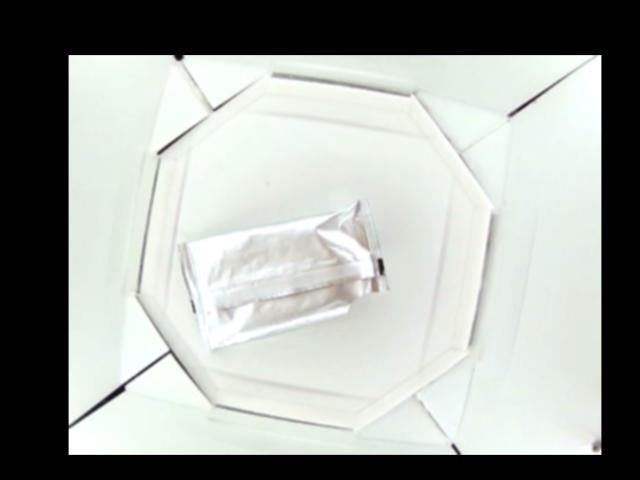Medicine: (180, 198, 391, 351)
